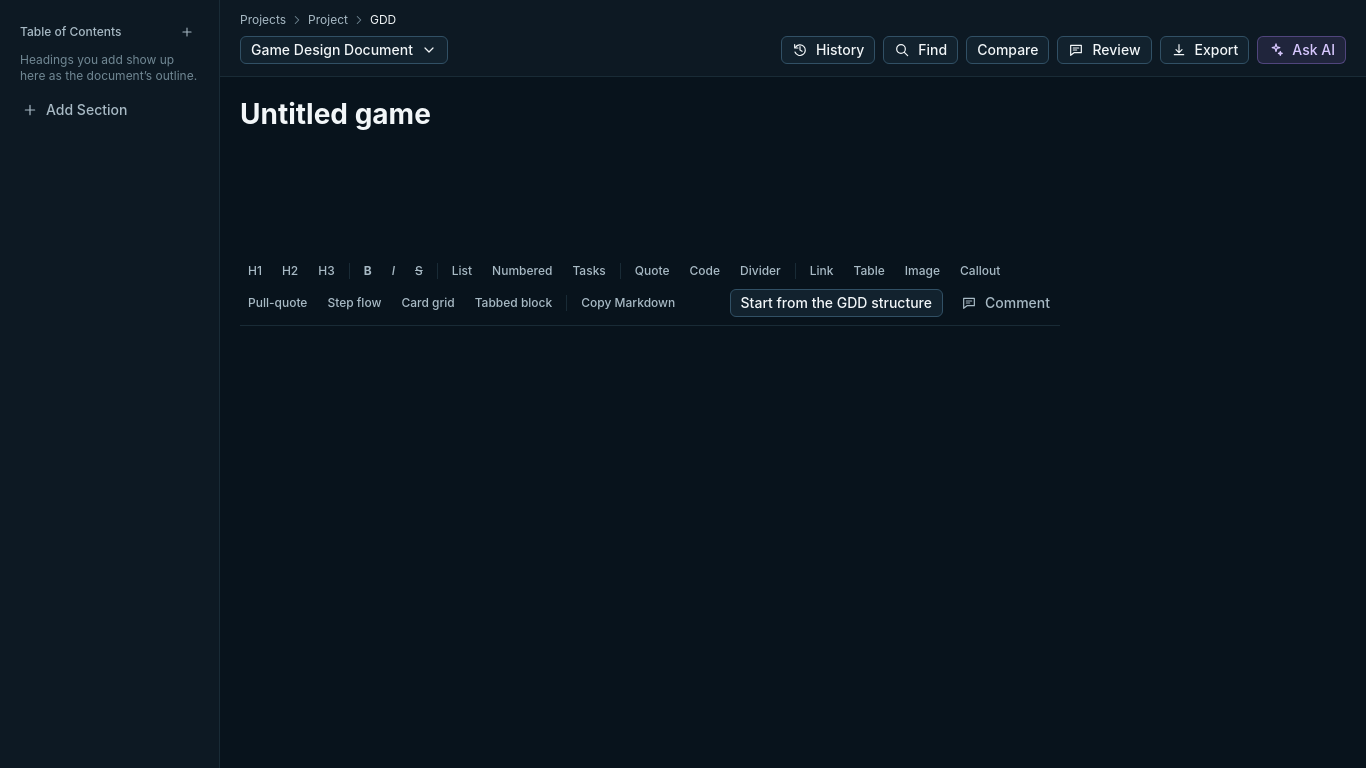
GddWorkspace — table of contents › adds a section from the outline and shows it there
Step 1. Click the button "Add Section" → (110, 110), box [12, 96, 207, 124]
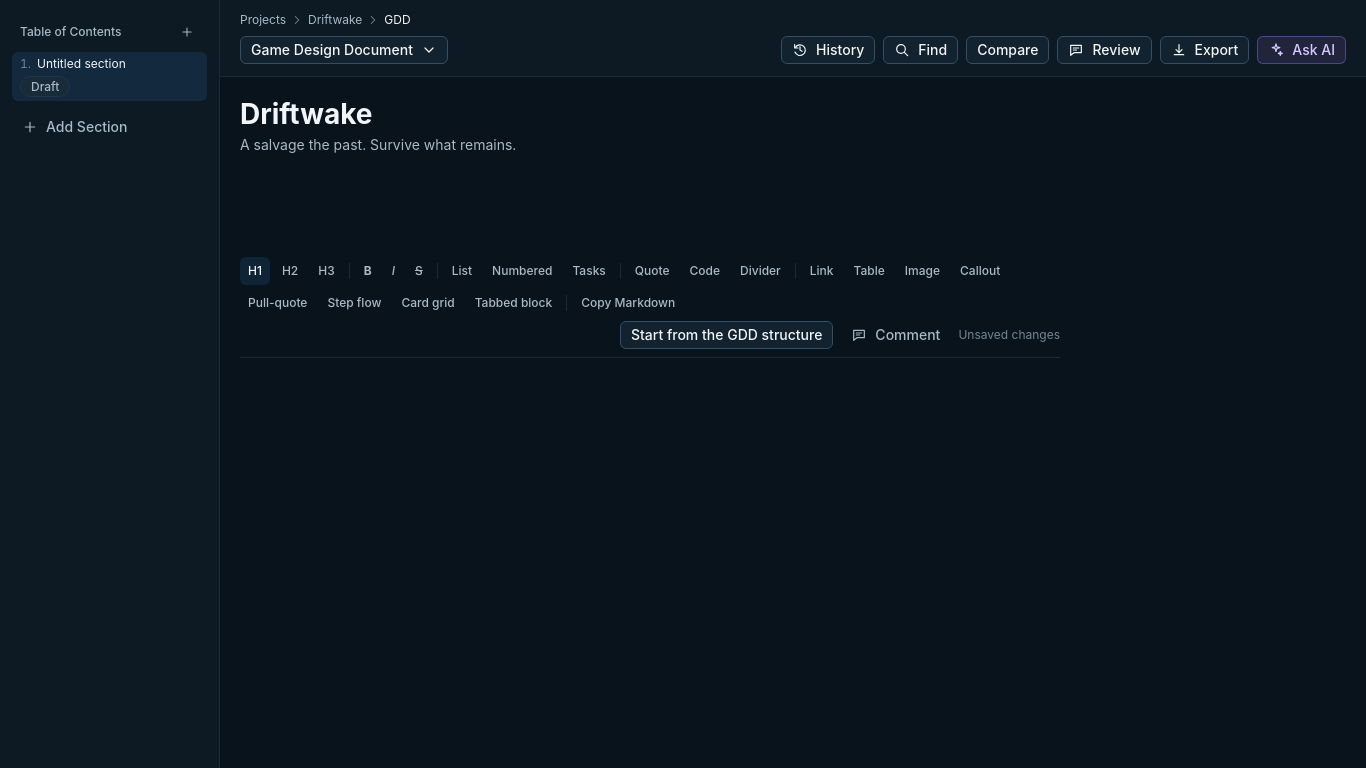
Expected: the button titled "Untitled section" is shown, [12, 52, 207, 101]
Expected: the text "1." is shown, [20, 56, 31, 72]
